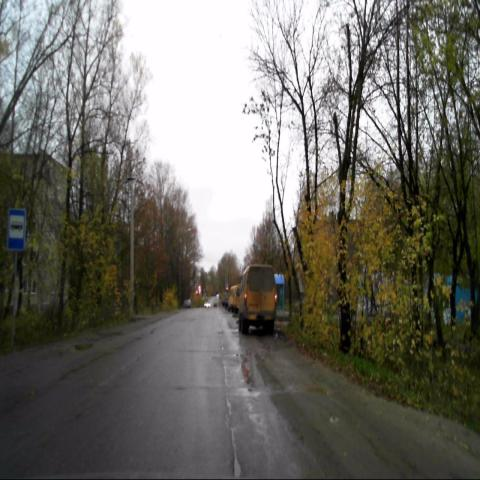5_16: (8, 208, 25, 251)
